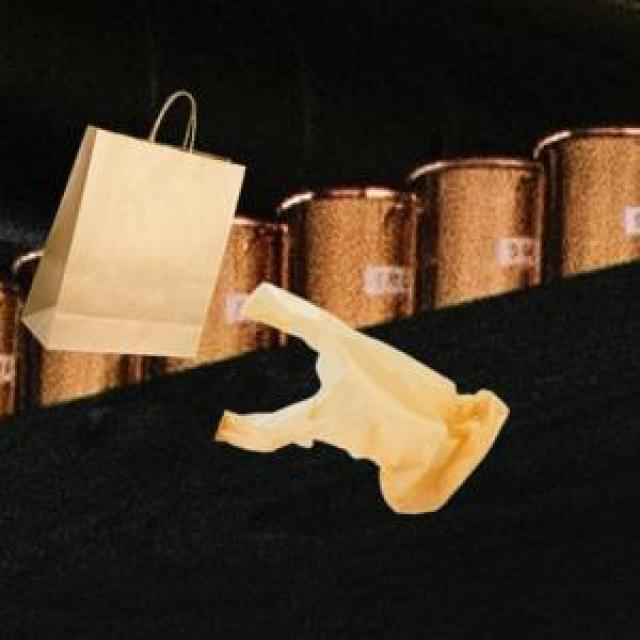paper: (17, 113, 241, 352)
